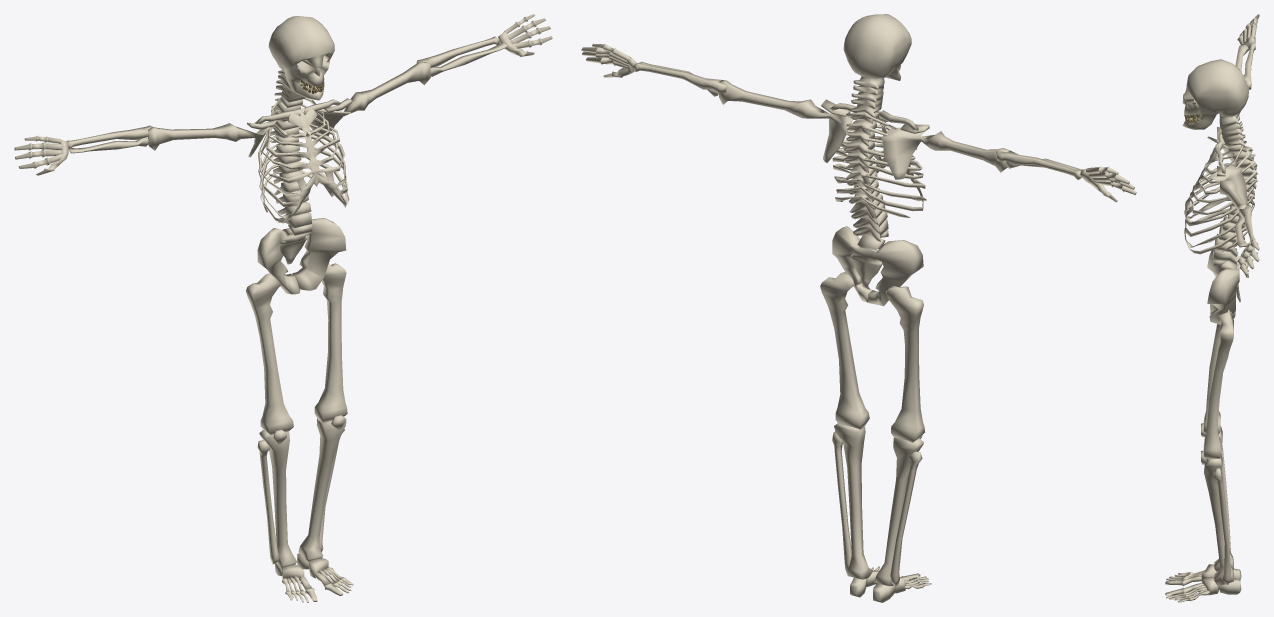
The model's file is skeleton_2.glb.
3 renders of one model, left to right at view 1: azimuth 30°, elevation 25°; view 2: azimuth 150°, elevation 25°; view 3: azimuth 270°, elevation 25°, orthographic. The views are drawn at different scales.
Parts seen in each view (by area): view 1: Skeleton_lowPoly; view 2: Skeleton_lowPoly; view 3: Skeleton_lowPoly.
Part boxes in pixels (box(x1,y1,x2,y2)): Skeleton_lowPoly: box(14, 14, 552, 602); Skeleton_lowPoly: box(581, 14, 1136, 602); Skeleton_lowPoly: box(1165, 14, 1259, 602).
Bounding box in the file's own units: 2.59 × 2.59 × 0.4206.
